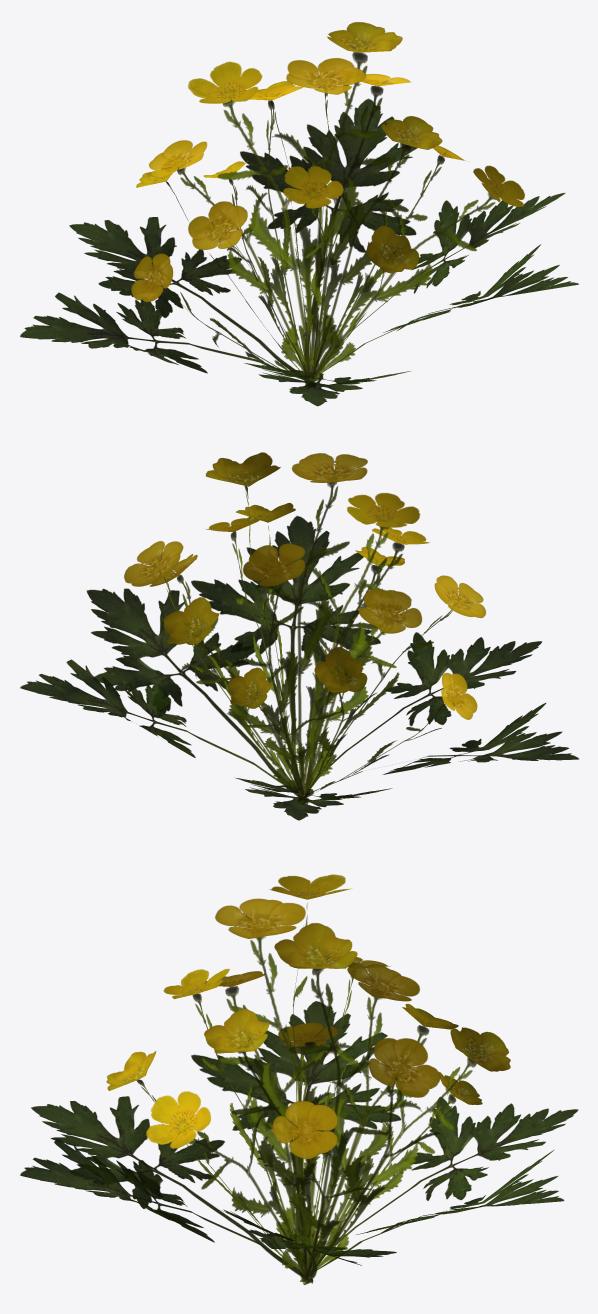
Rendered from ranunculus.gltf.
3 renders of one model, top to bottom at view 1: azimuth 30°, elevation 25°; view 2: azimuth 150°, elevation 25°; view 3: azimuth 270°, elevation 25°, orthographic. The views are drawn at different scales.
Parts seen in each view (by area): view 1: ranunculus1; view 2: ranunculus1; view 3: ranunculus1.
Boxes of the visible parts, box(x1,y1,x2,y2) form: ranunculus1: box(20, 22, 578, 406); ranunculus1: box(20, 452, 578, 820); ranunculus1: box(20, 874, 578, 1284).
Size of the model in its own units: 0.5309 by 0.3324 by 0.4456.
Materials: 1 (1 with a texture image).
